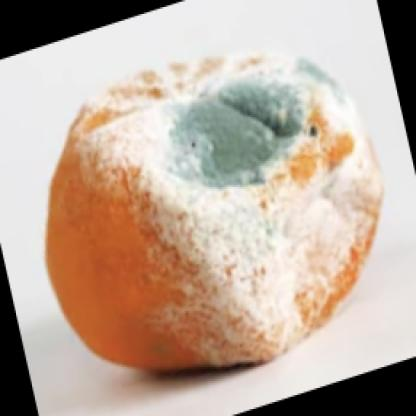rotten: (45, 57, 384, 368)
